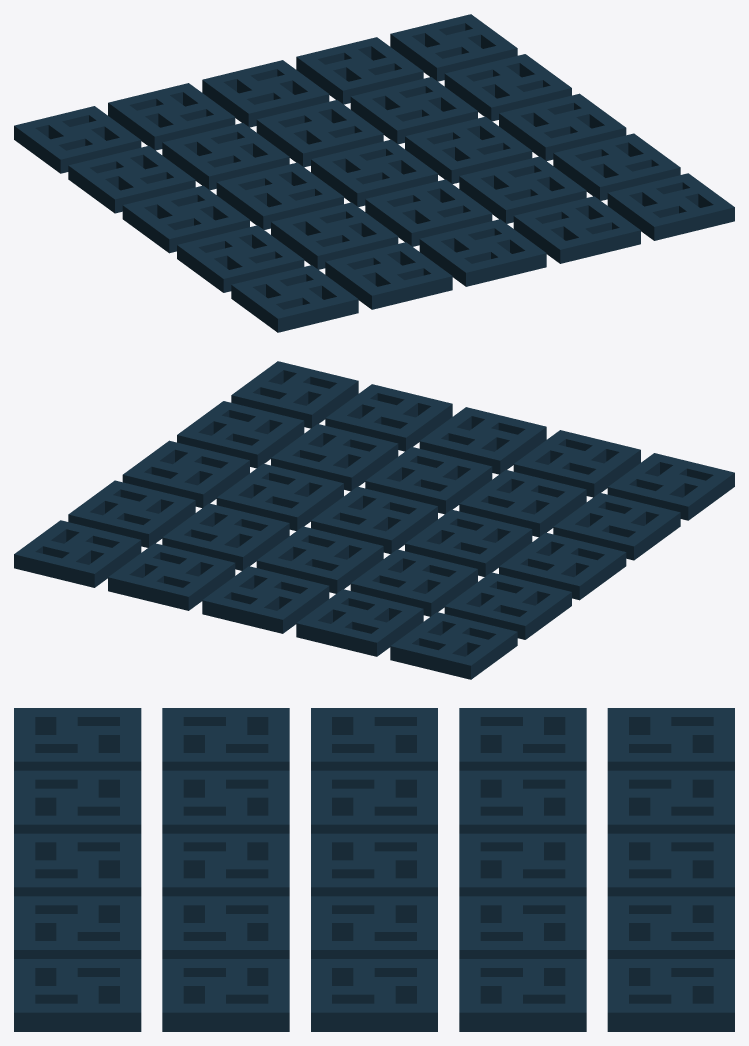
Rendered from Ground_2.dae.
3 views of the same model, one above another, from view 1: azimuth 30°, elevation 25°; view 2: azimuth 150°, elevation 25°; view 3: azimuth 270°, elevation 25° (orthographic). The views are drawn at different scales.
Visible parts, largest first — view 1: Ground_2; view 2: Ground_2; view 3: Ground_2.
Boxes of the visible parts, x1,y1,x2,y2 form: Ground_2: (14, 14, 734, 332); Ground_2: (14, 361, 734, 679); Ground_2: (14, 708, 734, 1031).
Size of the model in its own units: 0.85 by 0.85 by 0.025.
